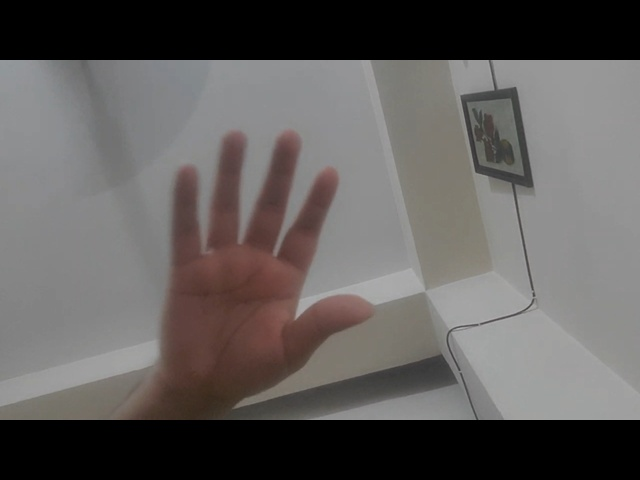Hello: (140, 116, 388, 416)
